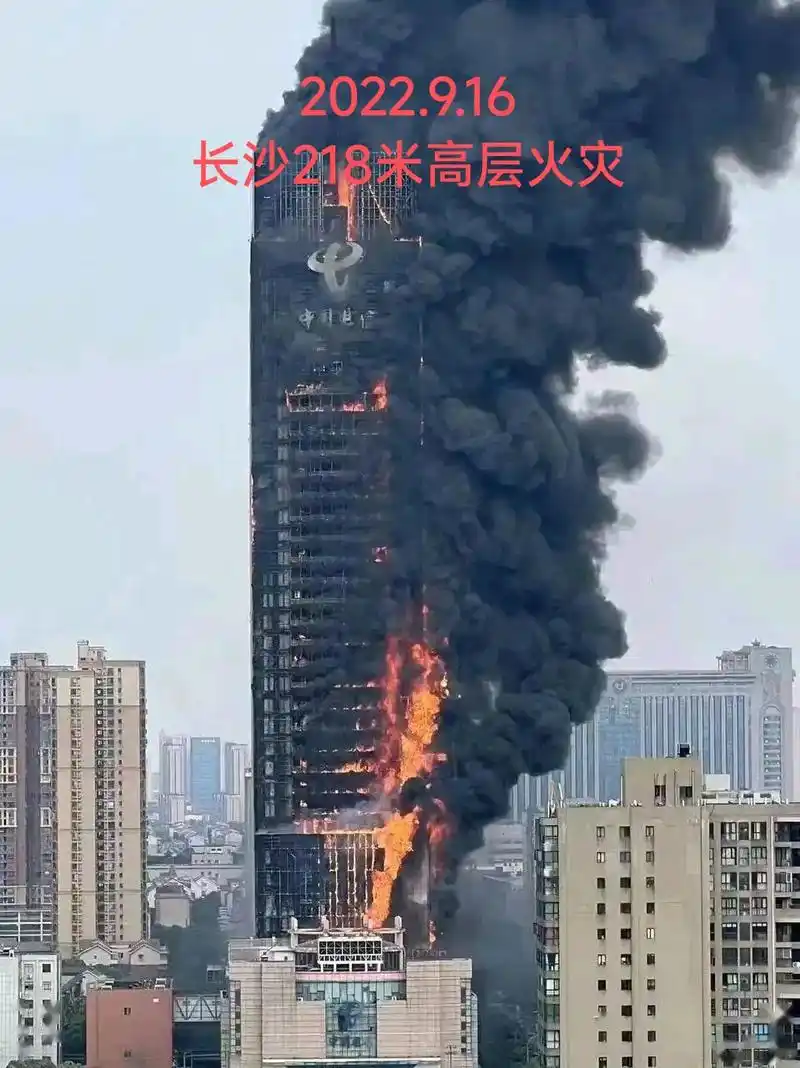fire: (231, 1, 794, 919)
